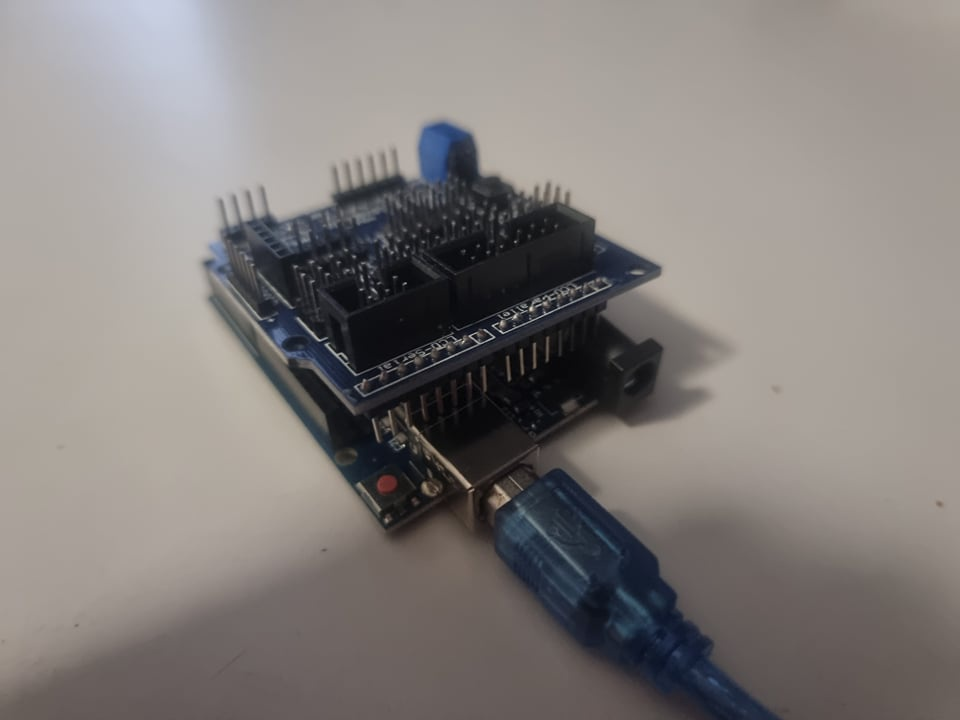5V EXPANSION: (202, 115, 665, 348)
UNO R3: (341, 326, 678, 530)
